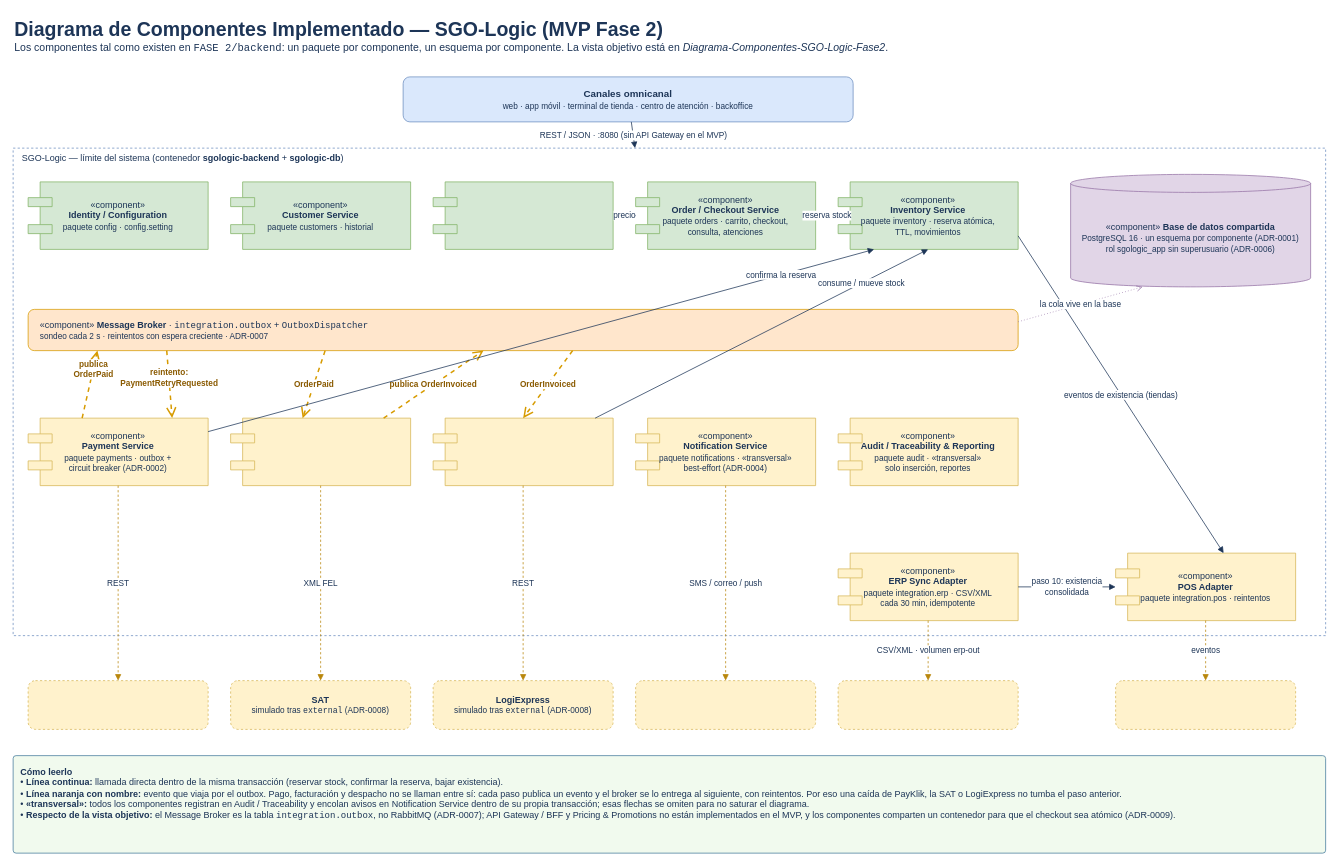
Image size: 1339x866. Some labels were removed from this diagram. The centre of each missing label's shape, as x and y in pixels:
ERP-Core (AS/400) simulado tras external (ADR-0008): (x=927, y=704)
PayKlik simulado tras external (ADR-0008): (x=117, y=704)
POS (32 tiendas) simulado tras external (ADR-0008): (x=1205, y=704)
Proveedor de notificaciones simulado tras external (ADR-0008): (x=725, y=704)
«component» Catalog / Product Service paquete catalog: (x=522, y=215)
«component» Invoicing Service paquete invoicing · XML con CUI y serie: (x=320, y=451)
«component» Logistics Service paquete logistics · origen, guía, rastreo: (x=522, y=451)
